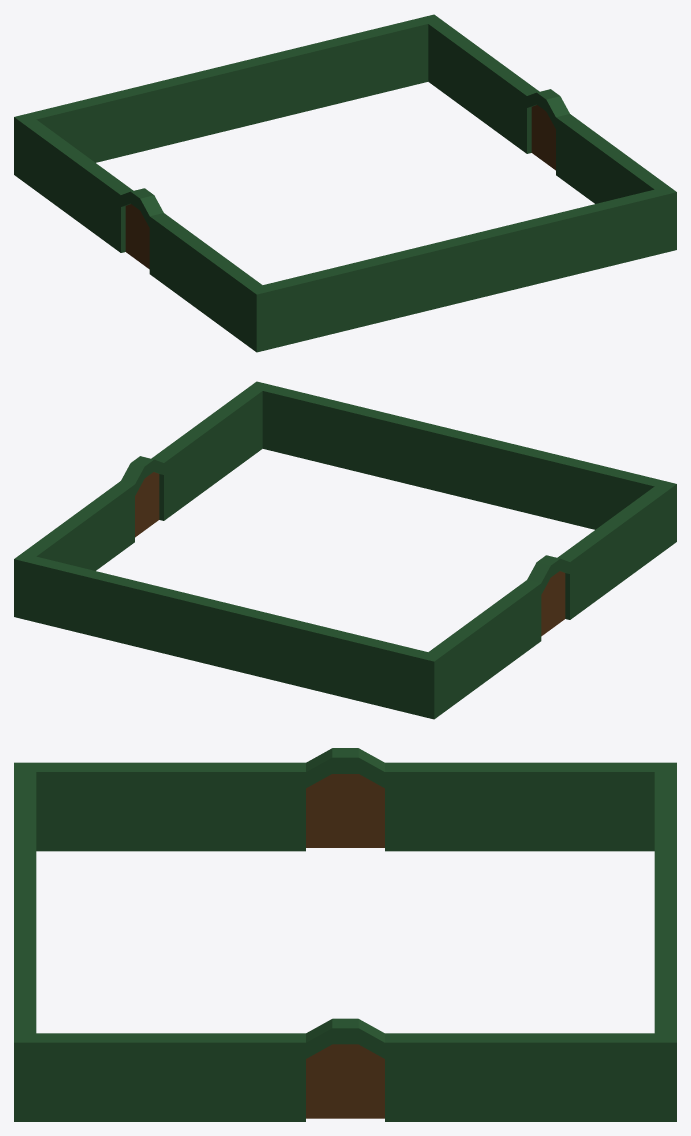
Rendered from TwoDoor_WE.fbx.
3 renders of one model, top to bottom at view 1: azimuth 30°, elevation 25°; view 2: azimuth 150°, elevation 25°; view 3: azimuth 270°, elevation 25°, orthographic. The views are drawn at different scales.
Parts seen in each view (by area): view 1: walls, E_door, W_door; view 2: walls, E_door, W_door; view 3: walls, E_door, W_door.
Boxes of the visible parts, x1,y1,x2,y2 form: walls: (14,14,676,352); E_door: (531,105,555,170); W_door: (125,204,149,269); walls: (14,381,676,719); E_door: (135,472,159,537); W_door: (541,571,565,636); walls: (14,748,676,1121); E_door: (306,1044,384,1118); W_door: (306,774,384,847).
Bounding box in the file's own units: 3566 × 556 × 3567.
